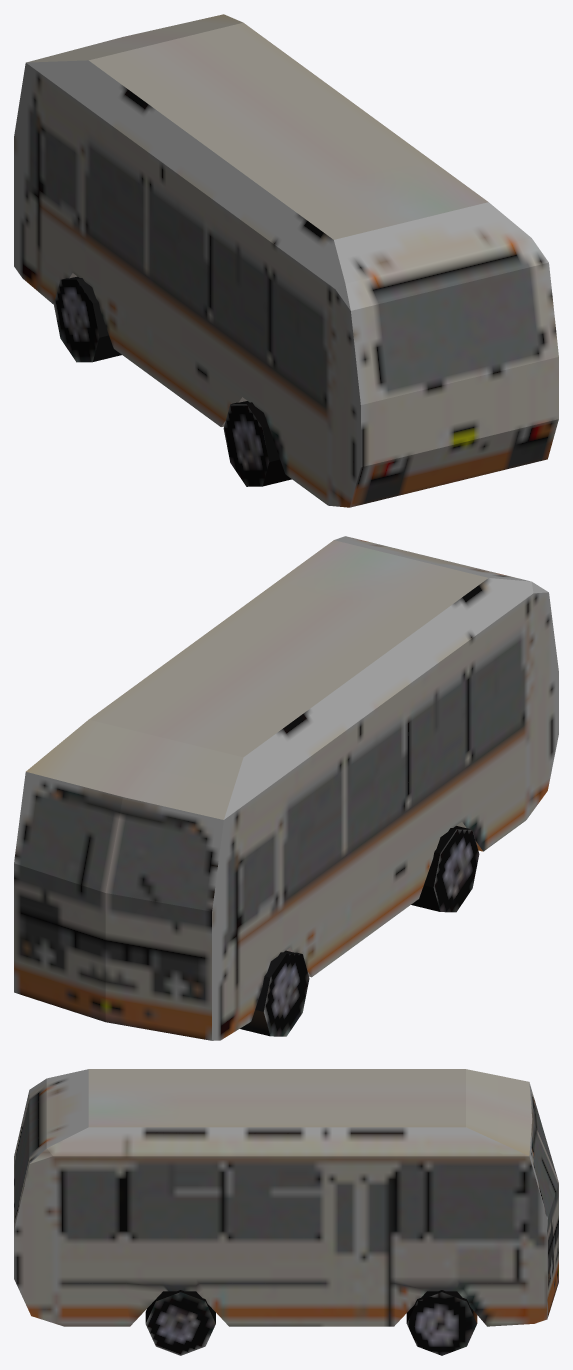
Rendered from bus.fbx.
3 views of the same model, one above another, from view 1: azimuth 30°, elevation 25°; view 2: azimuth 150°, elevation 25°; view 3: azimuth 270°, elevation 25° (orthographic). The views are drawn at different scales.
Parts seen in each view (by area): view 1: Cube, Cylinder.004, Cylinder.003; view 2: Cube, Cylinder.004, Cylinder.003; view 3: Cube, Cylinder.001, Cylinder.002.
Part boxes in pixels (<box>): Cube: <box>14,14,558,507</box>; Cylinder.004: <box>223,401,291,486</box>; Cylinder.003: <box>53,276,121,362</box>; Cube: <box>14,536,558,1040</box>; Cylinder.004: <box>411,826,479,912</box>; Cylinder.003: <box>240,950,309,1036</box>; Cube: <box>14,1069,558,1326</box>; Cylinder.001: <box>145,1290,215,1355</box>; Cylinder.002: <box>406,1290,477,1355</box>.
Bounding box in the file's own units: 212 × 274 × 620.
5 materials, 5 textured.
